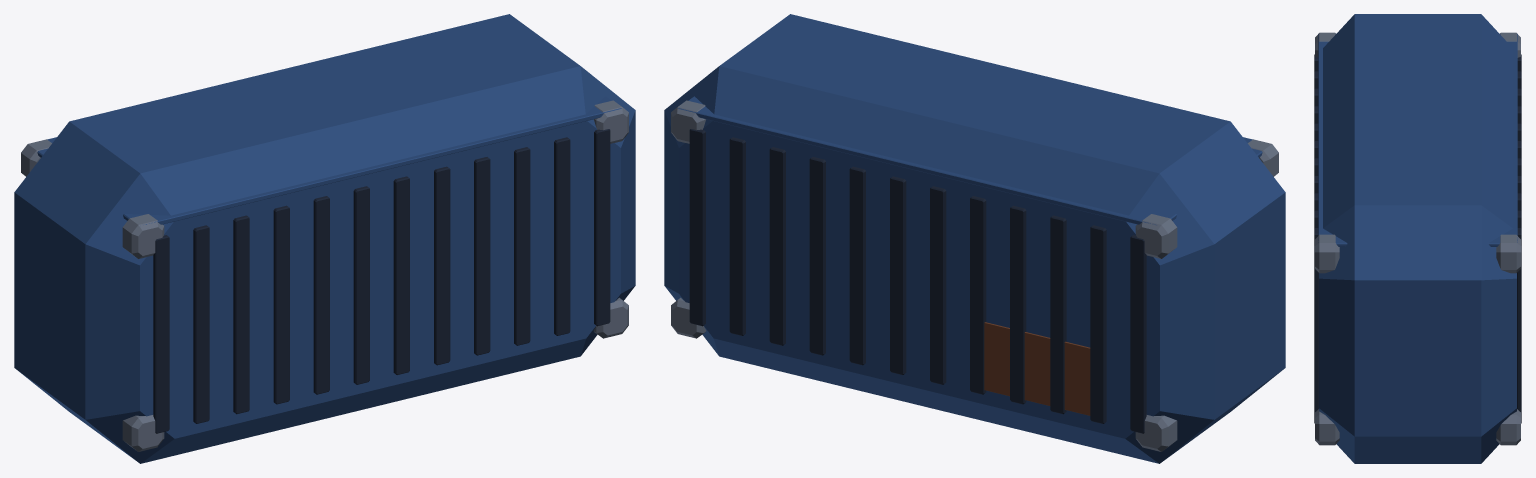
Rendered from switchyard_dress_container.glb.
The picture shows the model from 3 angles, left to right: view 1: azimuth 30°, elevation 25°; view 2: azimuth 150°, elevation 25°; view 3: azimuth 270°, elevation 25°; orthographic projection. The views are drawn at different scales.
Visible parts, largest first — view 1: cont_body, cont_roof, cont_corr21, cont_corr11, cont_corr31, cont_corr61, cont_corr81, cont_corr41, cont_corr51, cont_corr71, cont_corr91, cont_corr101 (+6 smaller); view 2: cont_body, cont_rust, cont_roof, cont_corr1-1, cont_corr6-1, cont_corr8-1, cont_corr5-1, cont_corr7-1, cont_corr9-1, cont_corr10-1, cont_corr11-1, cont_corr0-1 (+7 smaller); view 3: cont_body, cont_roof, cont_casting11-1, cont_casting111, cont_corr11-1, cont_corr111, cont_casting10-1, cont_casting101, cont_casting-11-1, cont_casting-111.
Boxes of the visible parts, x1,y1,x2,y2 form: cont_body: (14,14,635,463); cont_roof: (37,96,621,224); cont_corr21: (233,215,249,414); cont_corr11: (193,225,209,423); cont_corr31: (273,205,289,404); cont_corr61: (393,176,409,374); cont_corr81: (474,157,490,355); cont_corr41: (313,196,329,394); cont_corr51: (353,186,369,384); cont_corr71: (434,166,450,365); cont_corr91: (514,147,530,345); cont_corr101: (554,137,570,335); cont_body: (664,14,1285,463); cont_rust: (984,322,1090,415); cont_roof: (678,96,1262,225); cont_corr1-1: (1090,225,1106,423); cont_corr6-1: (890,176,906,374); cont_corr8-1: (809,157,825,355); cont_corr5-1: (930,186,946,384); cont_corr7-1: (849,166,865,365); cont_corr9-1: (769,147,785,345); cont_corr10-1: (729,137,745,335); cont_corr11-1: (689,129,705,326); cont_corr0-1: (1130,235,1146,433); cont_body: (1319,14,1516,463); cont_roof: (1318,34,1517,246); cont_casting11-1: (1496,234,1520,273); cont_casting111: (1315,234,1339,273); cont_corr11-1: (1517,246,1521,423); cont_corr111: (1314,246,1318,423); cont_casting10-1: (1496,409,1520,445); cont_casting101: (1315,409,1339,445); cont_casting-11-1: (1500,32,1520,57); cont_casting-111: (1315,32,1335,57).
Bounding box in the file's own units: 6.86 × 3.46 × 2.52.
